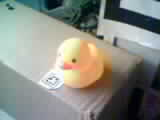duck: (40, 25, 109, 91)
